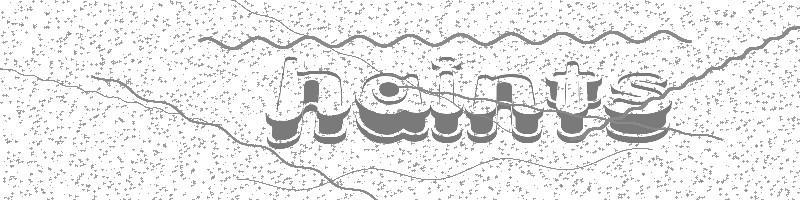a: (350, 73, 431, 144)
h: (261, 56, 353, 149)
i: (425, 48, 468, 149)
n: (464, 72, 545, 149)
s: (604, 72, 674, 142)
t: (543, 57, 603, 146)
